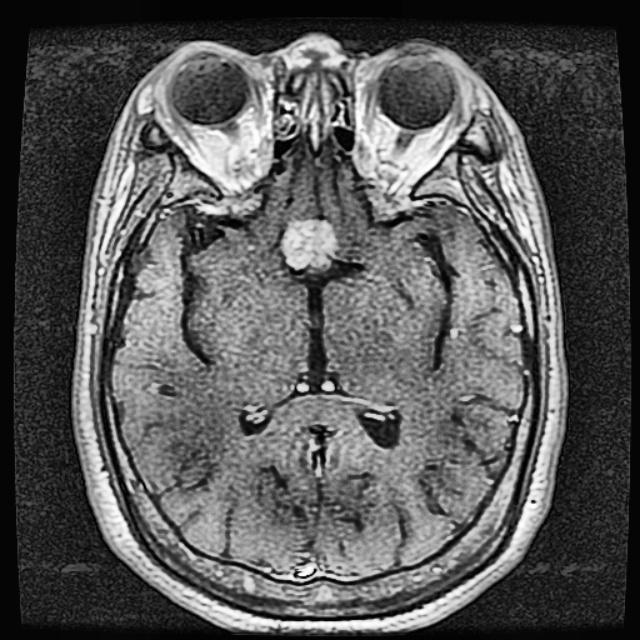Pituitary: (285, 219, 335, 267)
